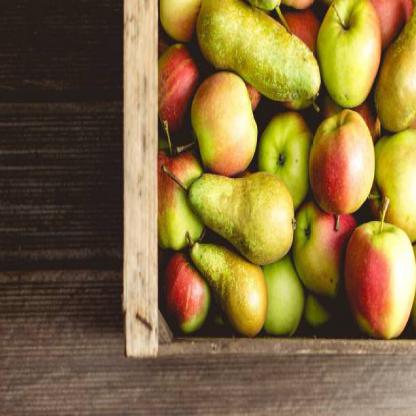Paer: (187, 170, 302, 245)
